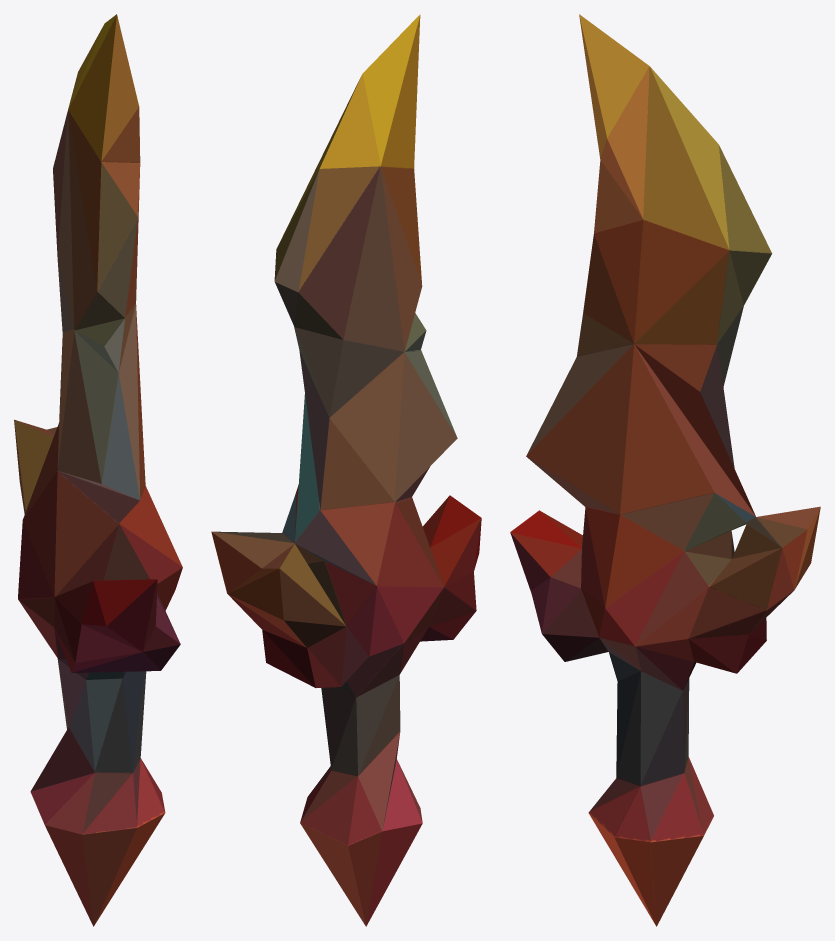
The model's file is low_poly_black_and_r_1028024947_refine.obj.
The picture shows the model from 3 angles, left to right: view 1: azimuth 30°, elevation 25°; view 2: azimuth 150°, elevation 25°; view 3: azimuth 270°, elevation 25°; orthographic projection. The views are drawn at different scales.
Parts seen in each view (by area): view 1: Mesh_0; view 2: Mesh_0; view 3: Mesh_0.
Part boxes in pixels (left/top/right/bottom): Mesh_0: left=14, top=14, right=182, bottom=926; Mesh_0: left=211, top=14, right=481, bottom=926; Mesh_0: left=510, top=14, right=820, bottom=926.
Bounding box in the file's own units: 0.3057 × 1.66 × 0.5152.
1 material, 1 textured.
